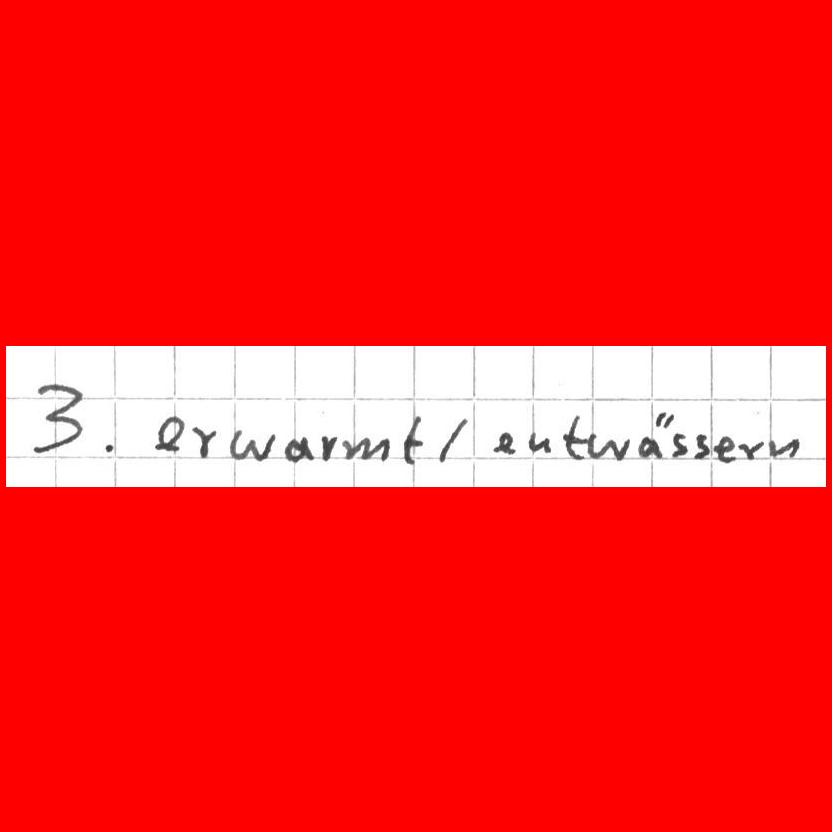Char: (32, 379, 87, 457), (637, 409, 676, 460), (227, 426, 277, 463), (436, 415, 468, 464), (339, 434, 391, 464), (151, 412, 184, 455), (585, 431, 632, 461), (401, 413, 424, 467), (561, 413, 584, 460), (191, 423, 217, 458), (283, 434, 312, 464), (738, 438, 769, 462), (491, 429, 517, 456), (713, 435, 736, 465), (526, 430, 553, 455), (770, 438, 802, 458), (318, 430, 337, 461), (669, 432, 688, 459), (693, 431, 710, 460), (99, 435, 119, 457)
